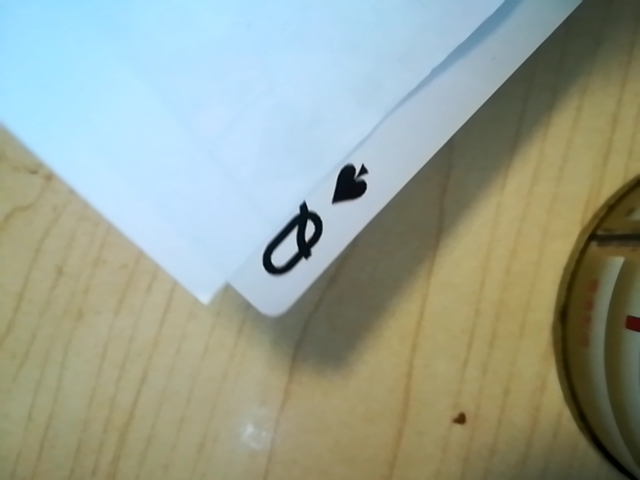ht q: (242, 142, 378, 300)
